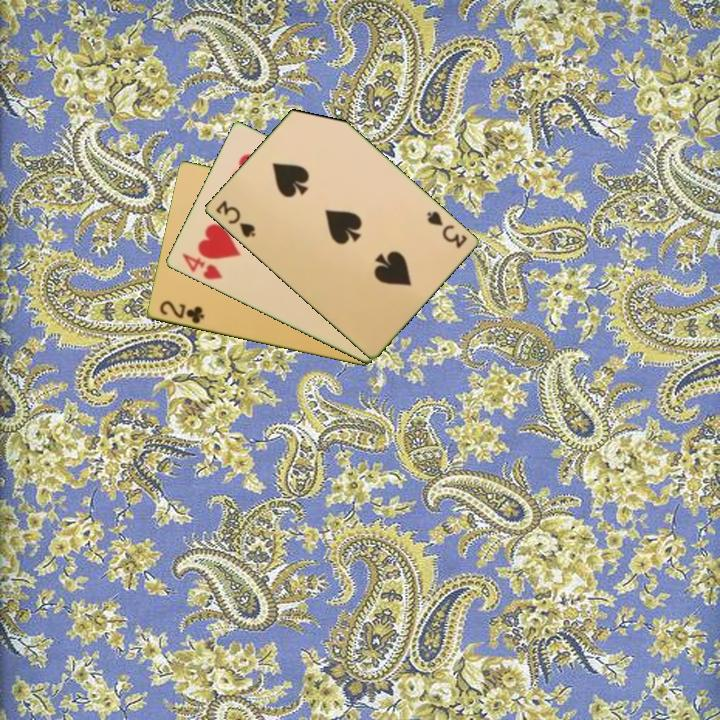2c: (156, 297, 207, 327)
3s: (422, 207, 470, 251), (211, 197, 258, 241)
4h: (178, 250, 225, 283)
